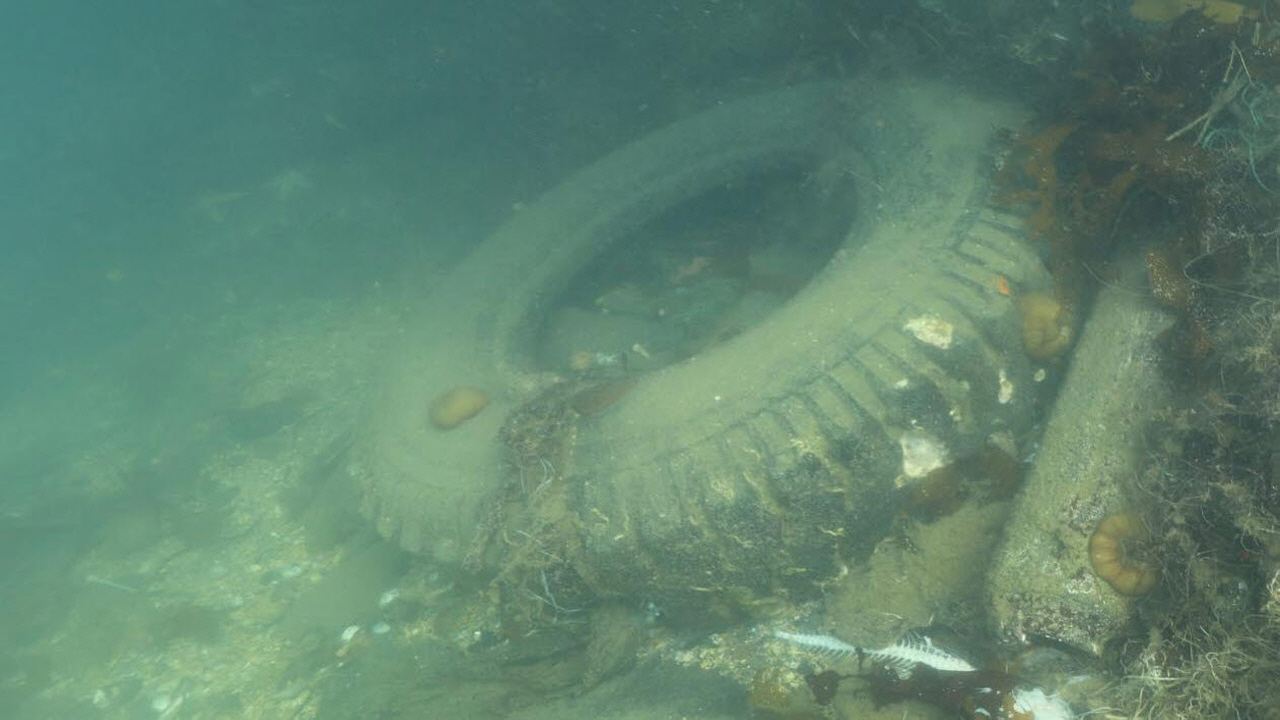eel fish trap: (988, 200, 1200, 655)
tire: (343, 74, 1084, 628)
